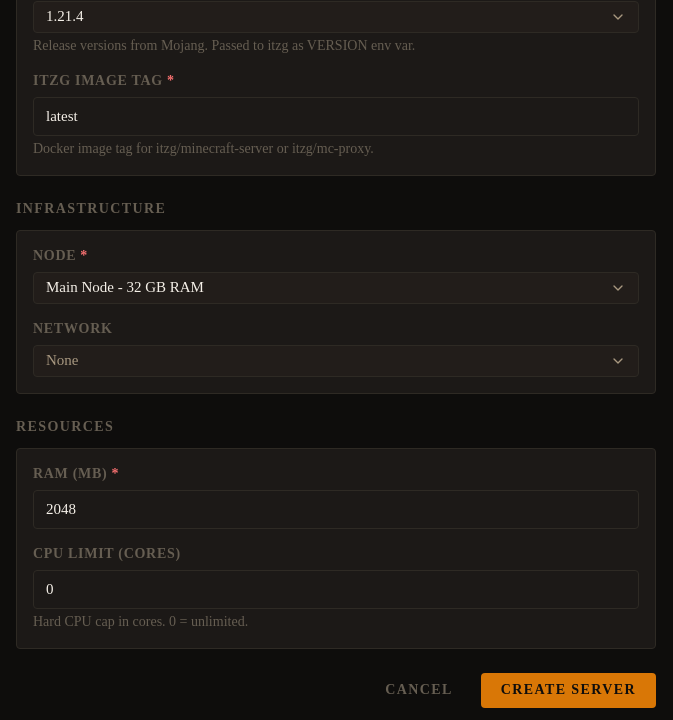
Test case: NewServerPage › renders network options
The image size is (673, 720).
(page scrolled)
Click the dropdown named "Network" at (62, 360), box [33,344,639,376]
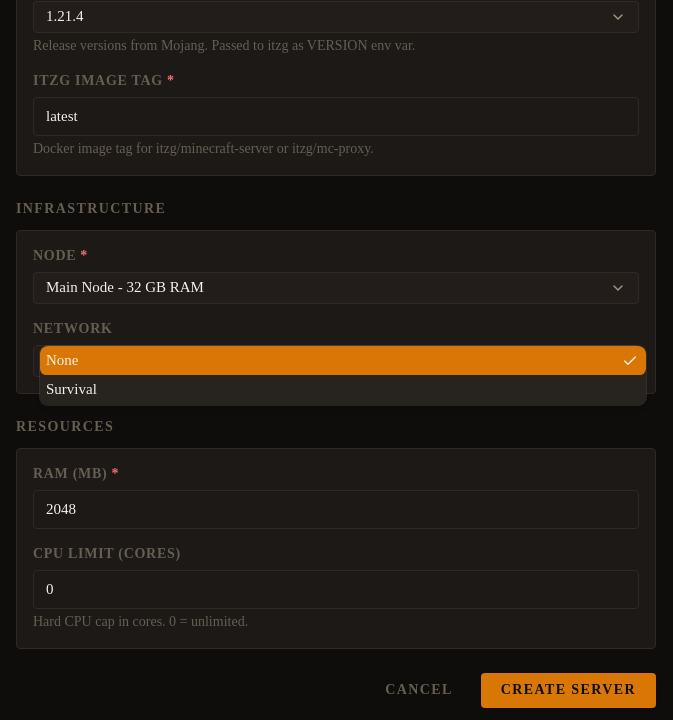
Check: the option "Survival" is shown, box [46,381,97,397]
